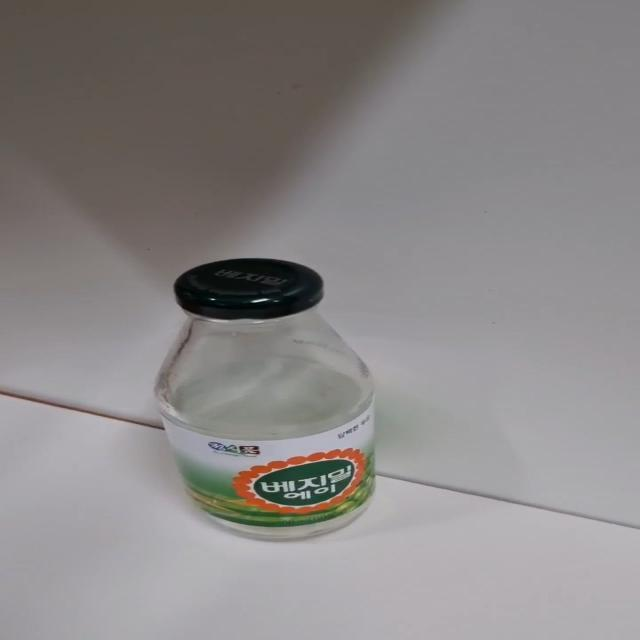Glass: (153, 261, 388, 544)
